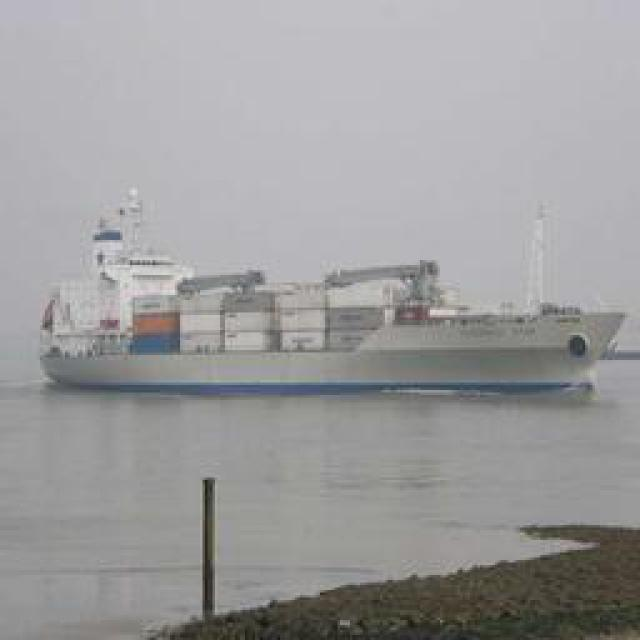Ship: (43, 204, 618, 397)
